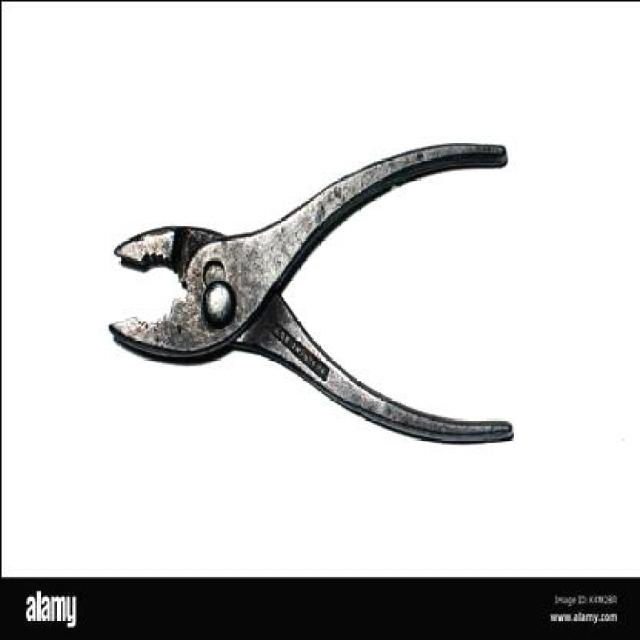Pliers: (99, 137, 522, 445)
